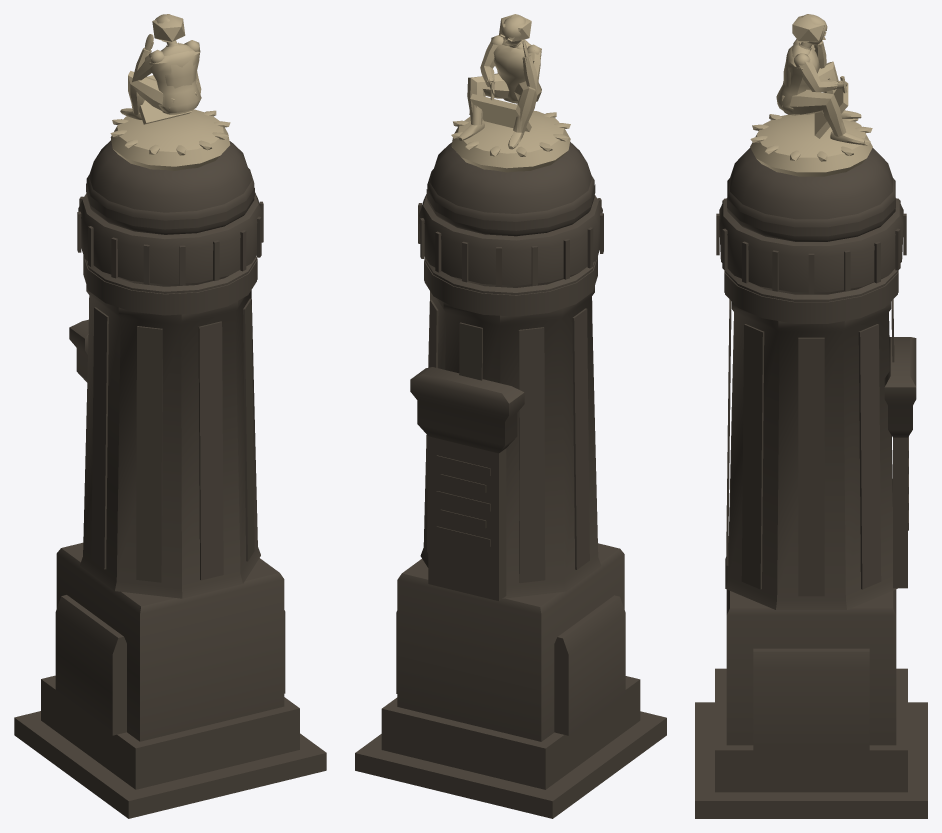
File: mon_lipsius.glb
3 views of the same model, side by side, from view 1: azimuth 30°, elevation 25°; view 2: azimuth 150°, elevation 25°; view 3: azimuth 270°, elevation 25° (orthographic). The views are drawn at different scales.
Parts seen in each view (by area): view 1: mon_lipsius; view 2: mon_lipsius; view 3: mon_lipsius.
Part boxes in pixels (bbox=[...]): mon_lipsius: bbox=[14, 14, 326, 818]; mon_lipsius: bbox=[355, 14, 666, 818]; mon_lipsius: bbox=[695, 14, 927, 818].
Bounding box in the file's own units: 1.4 × 5 × 1.4.
